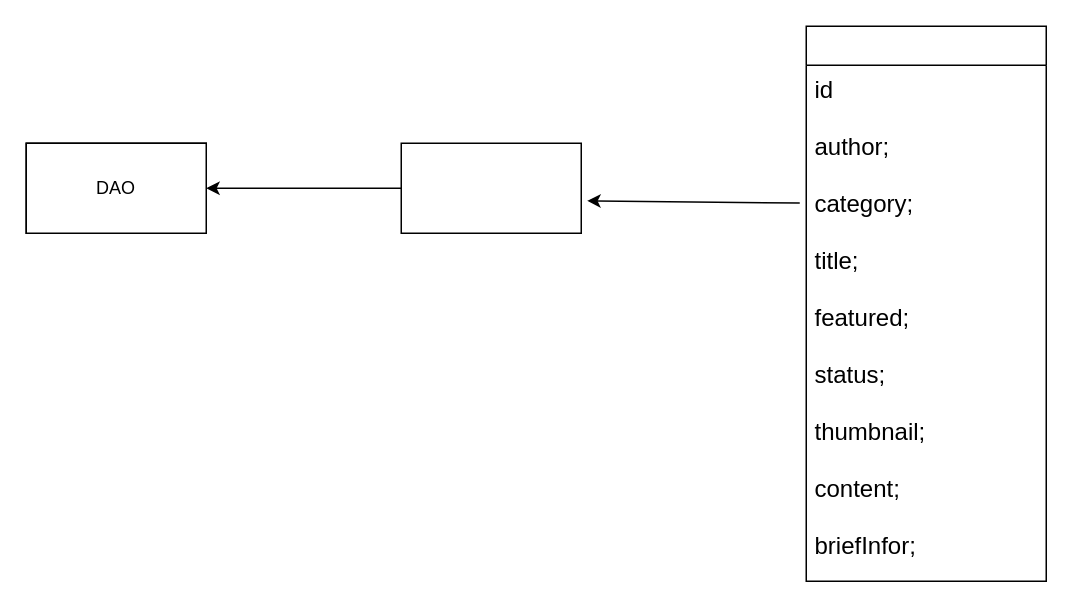
Some shapes in this 1073 by 612 pixel diagram are drawn without their labels. The box of each missing label's shape, as (x1, y1, x2, y2) in pixels:
Post: (805, 25, 1046, 581)
PostListController: (400, 142, 581, 233)
